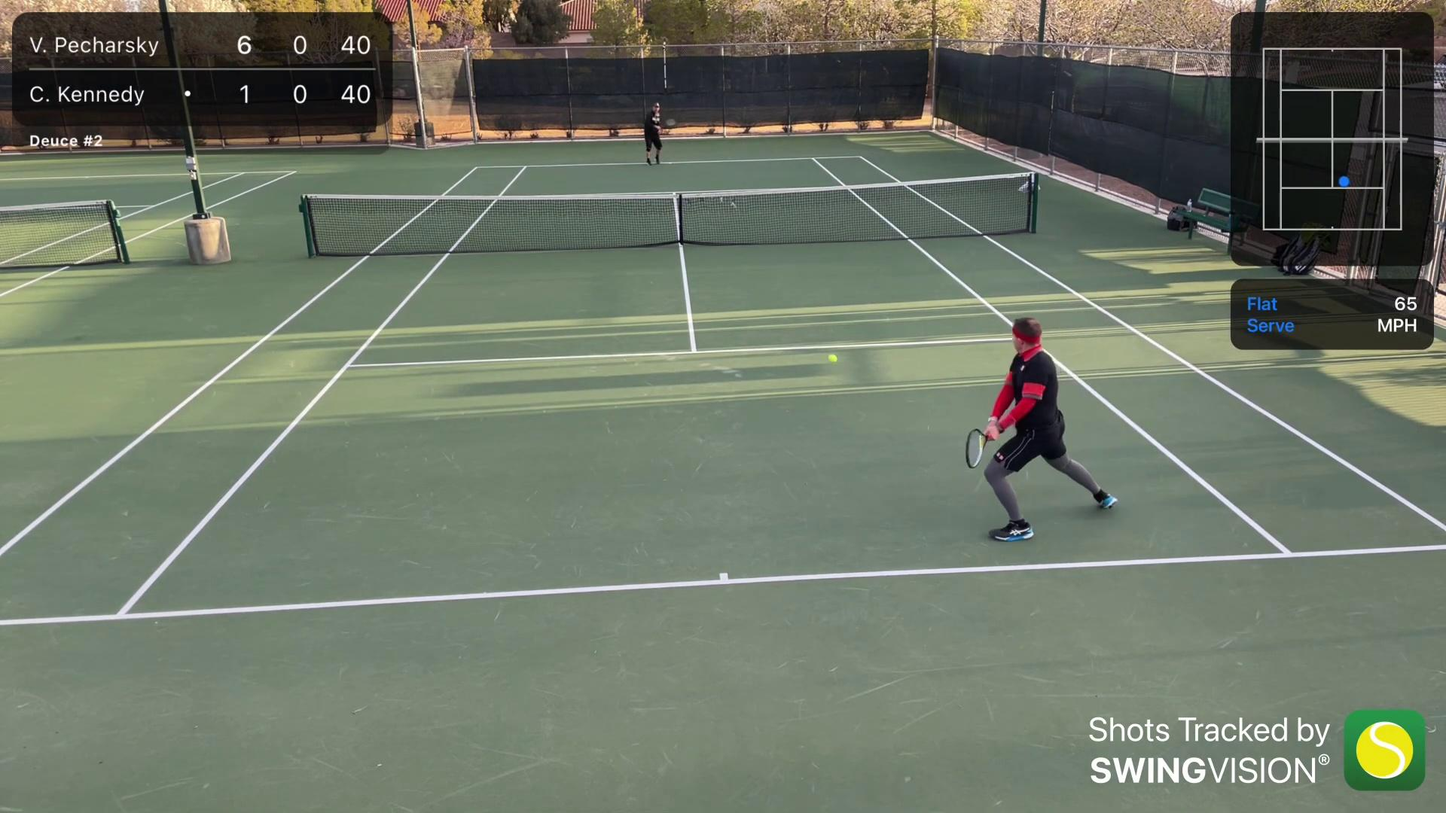ball: (826, 352, 840, 363)
